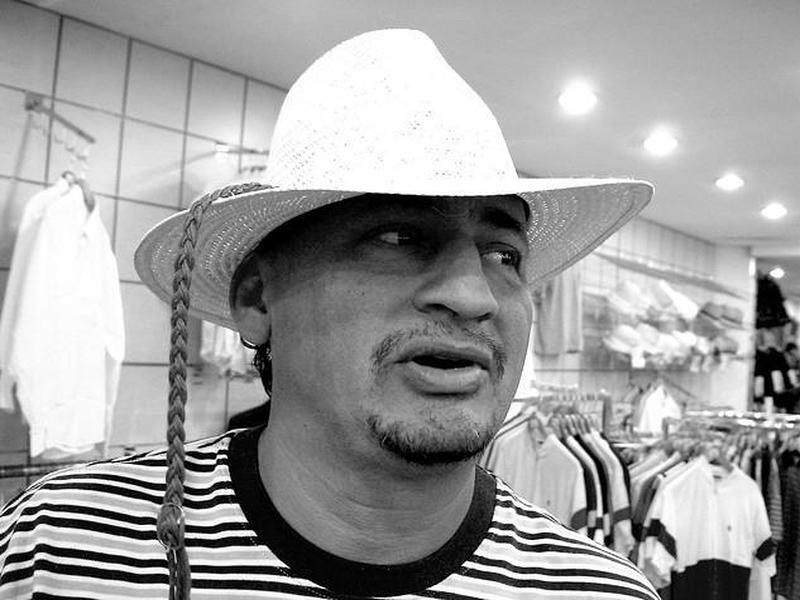person: (21, 26, 646, 600)
